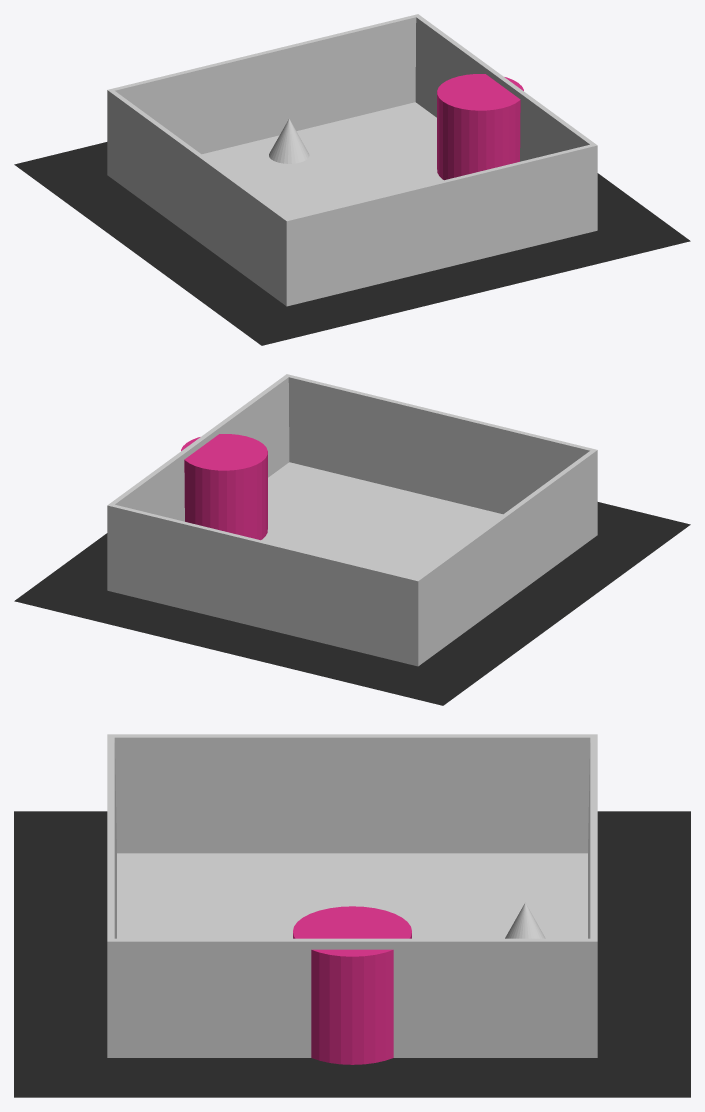
The model's file is world.gltf.
3 renders of one model, top to bottom at view 1: azimuth 30°, elevation 25°; view 2: azimuth 150°, elevation 25°; view 3: azimuth 270°, elevation 25°, orthographic. The views are drawn at different scales.
Visible parts, largest first — view 1: Cube, Floor, Cylinder; view 2: Cube, Floor, Cylinder; view 3: Cube, Floor, Cylinder.
Part boxes in pixels (bbox=[...]): Cube: bbox=[107, 14, 597, 306]; Floor: bbox=[14, 142, 690, 345]; Cylinder: bbox=[437, 74, 523, 180]; Cube: bbox=[107, 374, 597, 666]; Floor: bbox=[14, 502, 690, 705]; Cylinder: bbox=[181, 434, 267, 540]; Cube: bbox=[107, 734, 597, 1057]; Floor: bbox=[14, 811, 690, 1097]; Cylinder: bbox=[293, 906, 411, 1064].
Bounding box in the file's own units: 100 × 23.72 × 100.
